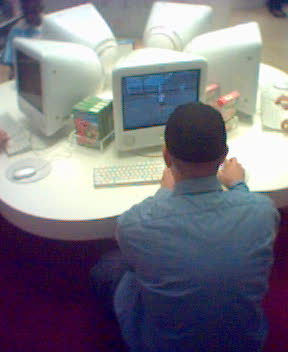person: (91, 102, 283, 352)
